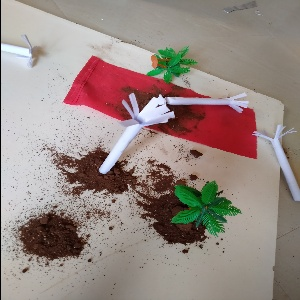plant: (168, 166, 241, 241), (141, 45, 203, 82)
weed: (92, 92, 163, 179), (251, 124, 300, 201), (158, 87, 264, 122), (1, 37, 40, 67)
